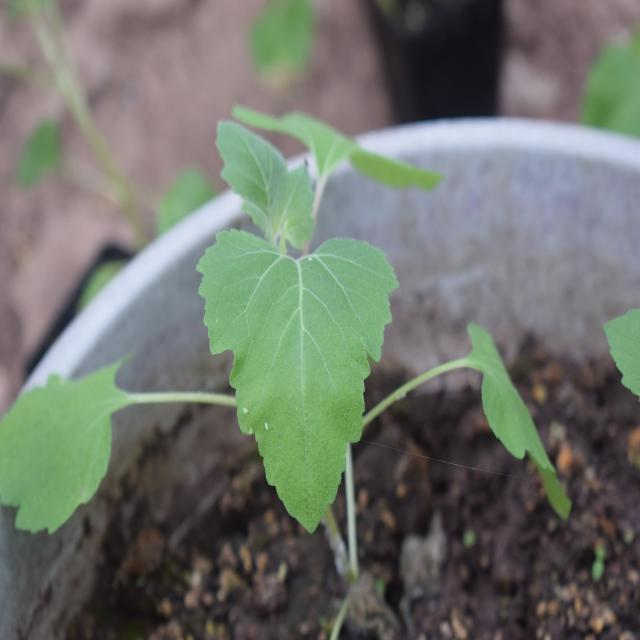cocklebur: (18, 107, 517, 514)
